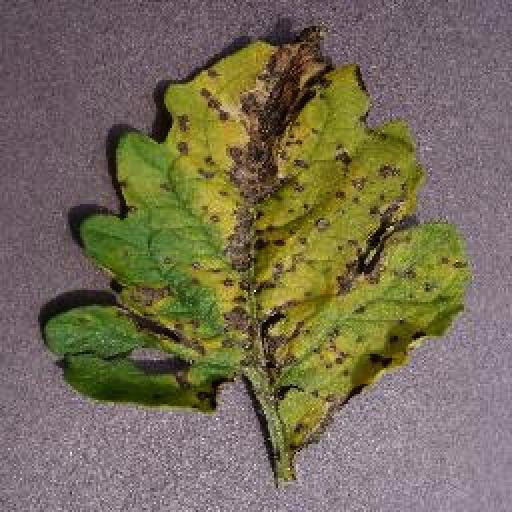disease_tomato: (46, 24, 468, 442)
